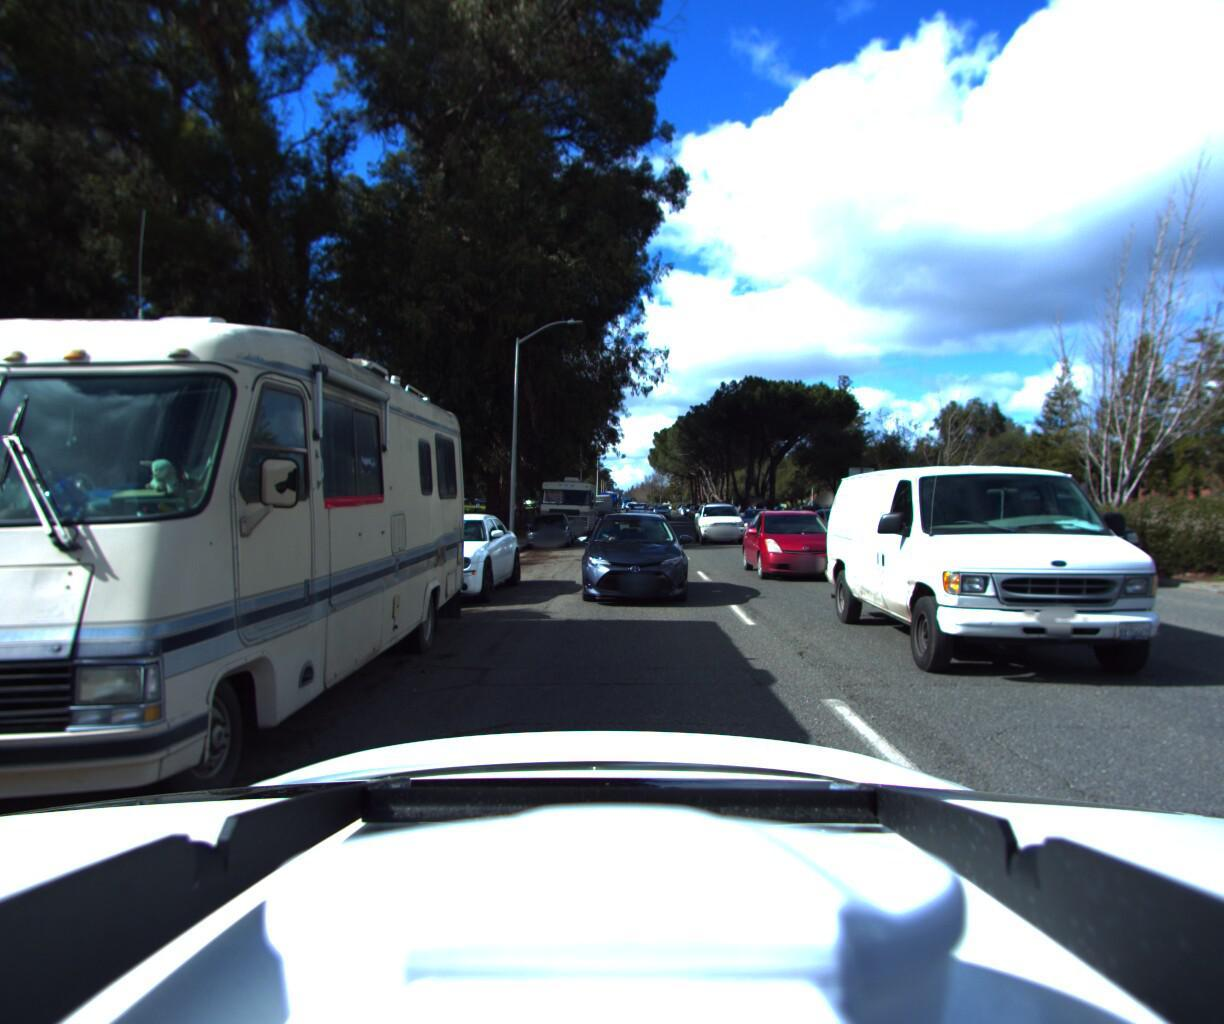car: (813, 441, 1199, 699), (941, 486, 1154, 590), (361, 513, 528, 616), (576, 509, 693, 618), (738, 503, 856, 593), (536, 476, 601, 543), (524, 515, 580, 563), (695, 504, 750, 551), (610, 507, 660, 553), (655, 506, 675, 522)
other_vehicle: (585, 496, 616, 527)
